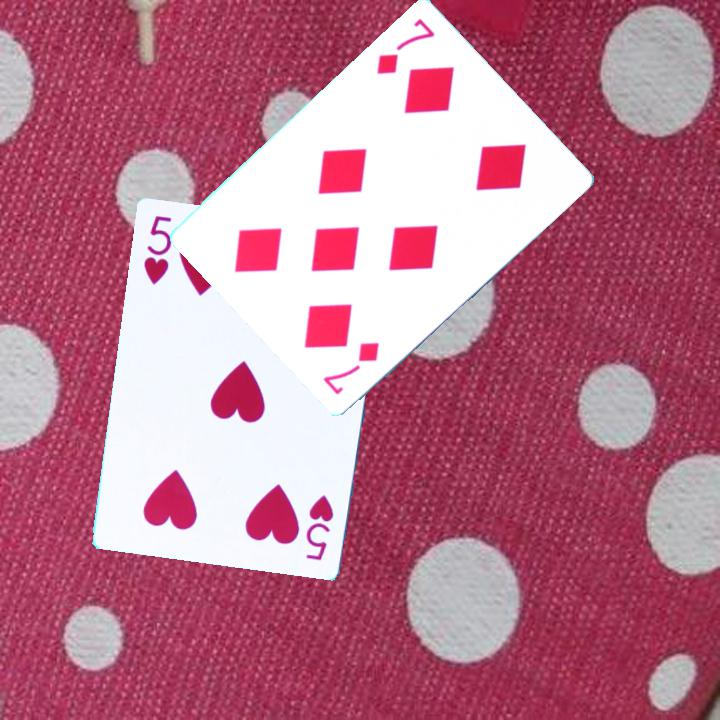5h: (139, 211, 174, 287), (302, 491, 336, 563)
7d: (373, 14, 438, 77), (320, 337, 383, 398)
